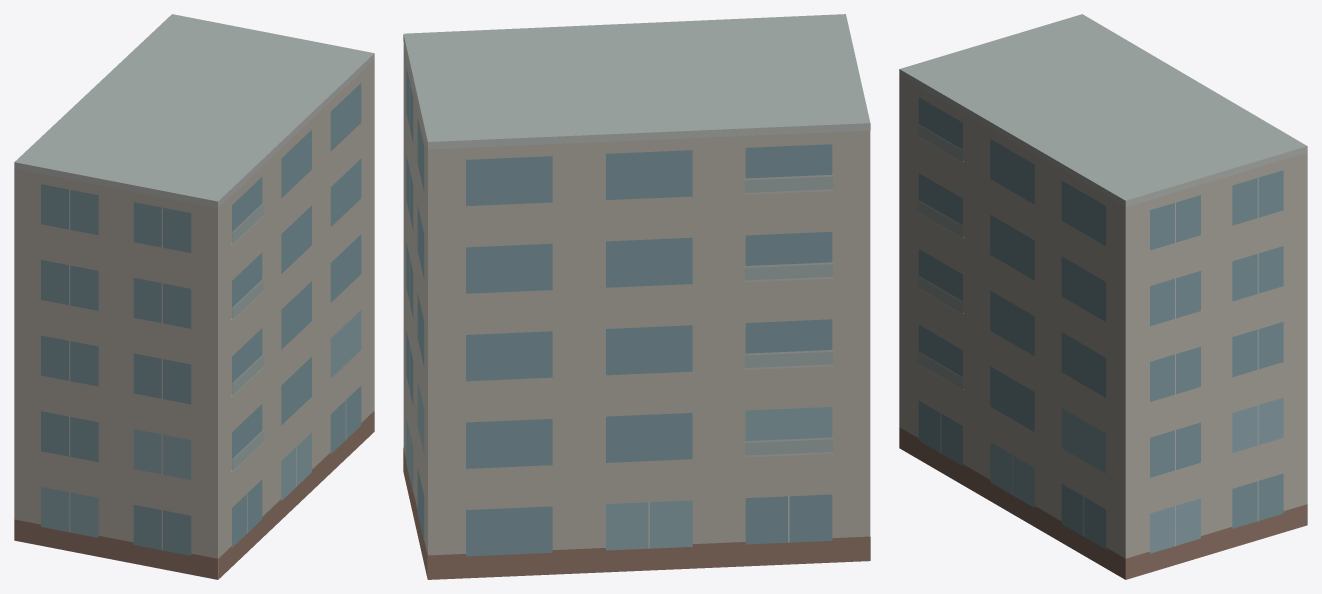
File: survey-upis-32712673.glb
3 renders of one model, left to right at view 1: azimuth 30°, elevation 25°; view 2: azimuth 150°, elevation 25°; view 3: azimuth 270°, elevation 25°, orthographic. The views are drawn at different scales.
Visible parts, largest first — view 1: survey-upis-32712673.tmp; view 2: survey-upis-32712673.tmp; view 3: survey-upis-32712673.tmp.
Part boxes in pixels (x1=…): survey-upis-32712673.tmp: x1=14, y1=14, x2=374, y2=579; survey-upis-32712673.tmp: x1=403, y1=14, x2=870, y2=579; survey-upis-32712673.tmp: x1=899, y1=14, x2=1307, y2=579.
Bounding box in the file's own units: 15.22 × 14.4 × 14.06.
